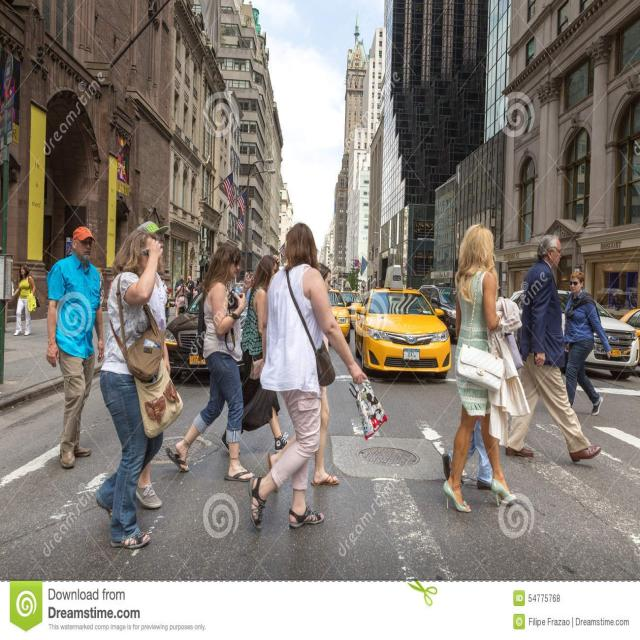body: (246, 222, 390, 534), (94, 225, 185, 553), (440, 222, 522, 514), (504, 232, 604, 464), (162, 240, 256, 484), (105, 219, 172, 511), (266, 260, 340, 488), (44, 224, 106, 470), (220, 254, 292, 454), (562, 269, 614, 416), (440, 417, 495, 492), (13, 264, 41, 336), (403, 293, 431, 317), (174, 279, 190, 318), (162, 281, 172, 326), (95, 266, 105, 305), (184, 274, 195, 306), (193, 278, 204, 296), (174, 274, 183, 288)
